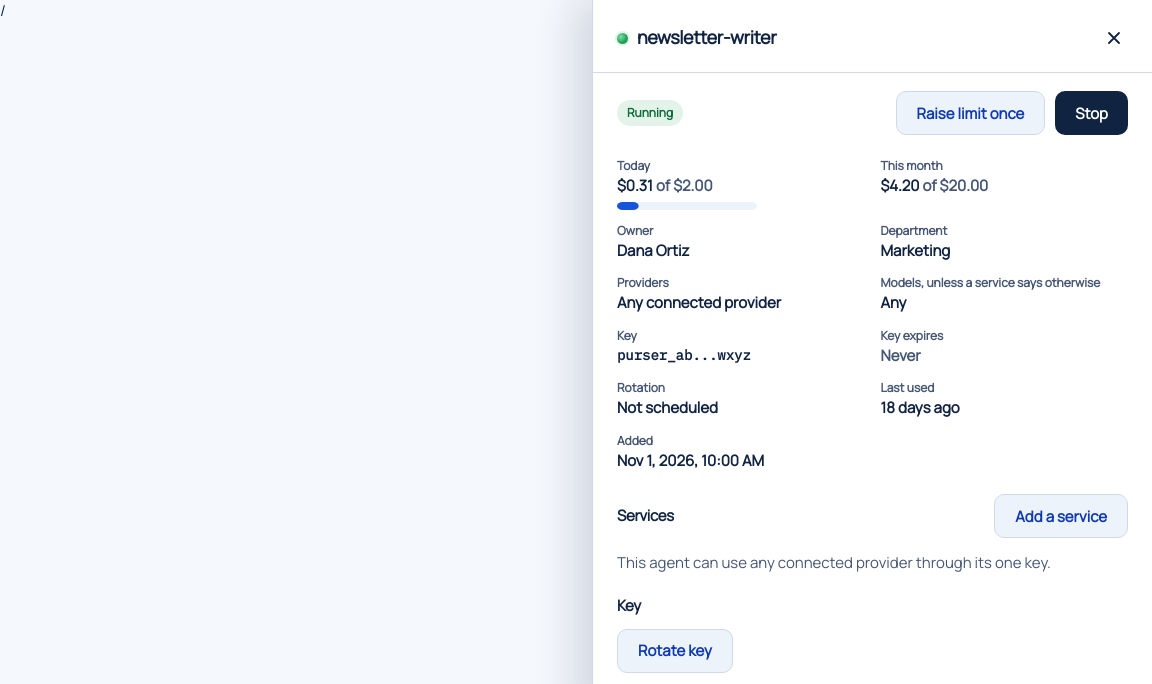
Test: AgentDetail › stops and turns the agent back on
Click the button "Stop".
click(1092, 113)  # box [1055,91,1128,135]
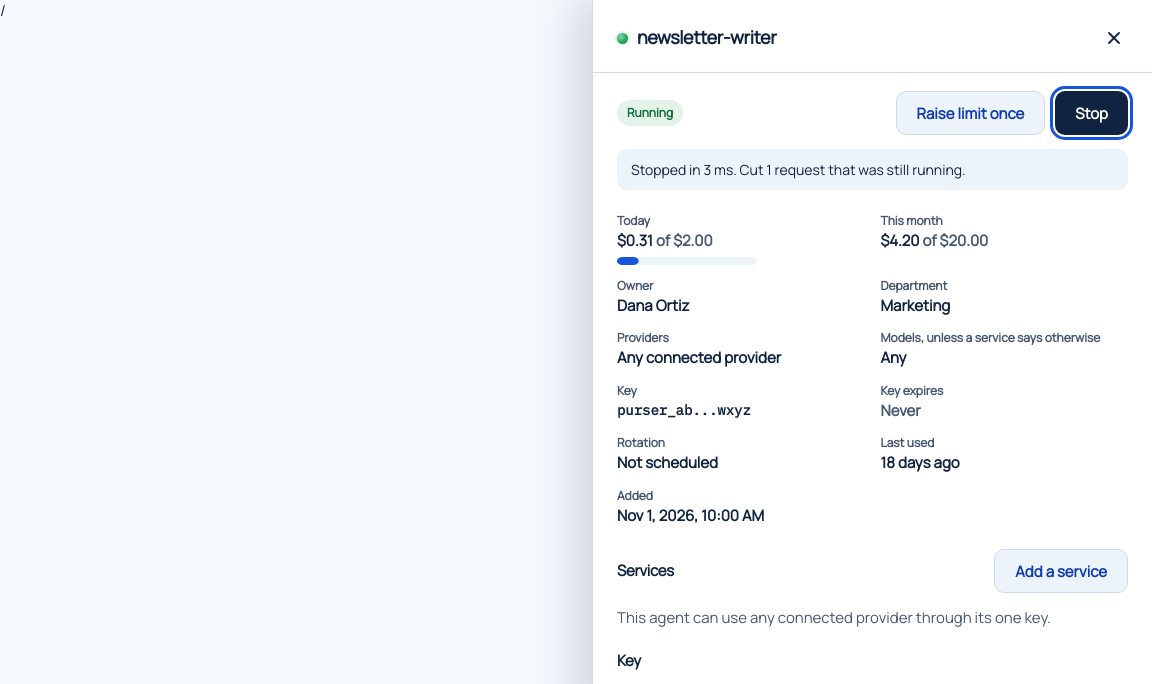
Result: the text "Stopped in 3 ms. Cut 1 request that was still running." is shown at [617,149,1128,190]
